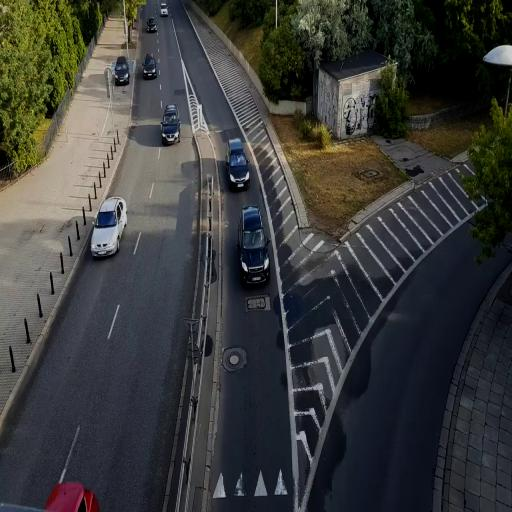vehicle: (240, 205, 270, 286), (90, 196, 128, 258), (45, 480, 100, 512), (161, 104, 180, 144), (113, 56, 130, 85), (143, 55, 158, 79)
